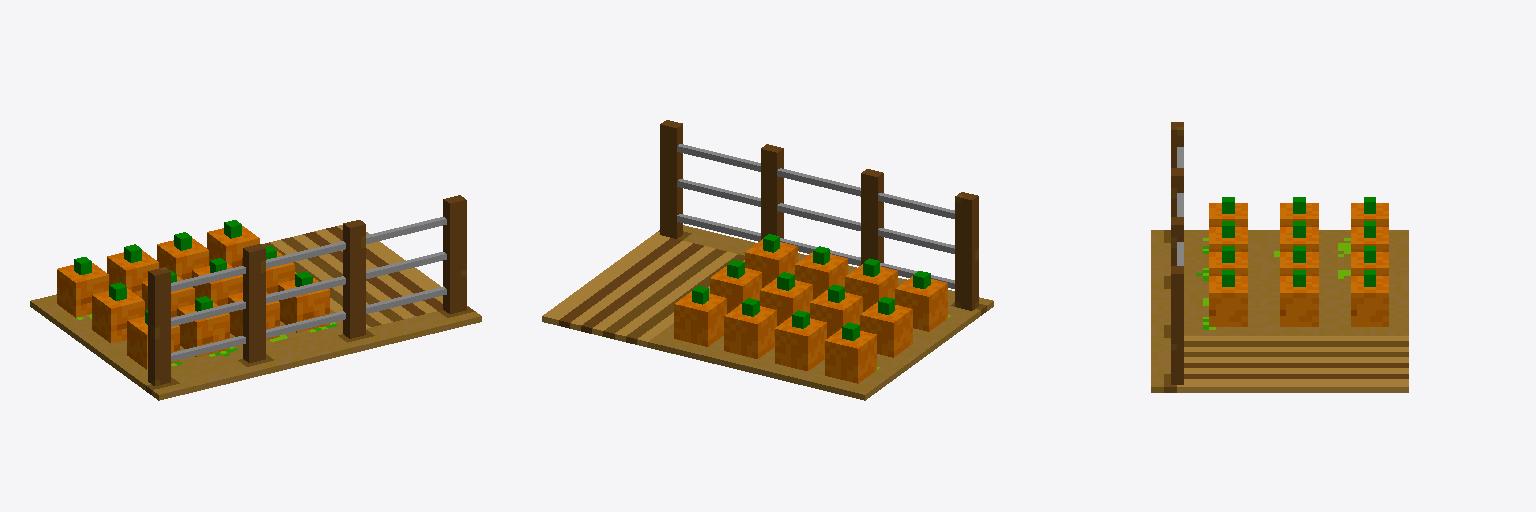
3 views of the same model, side by side, from view 1: azimuth 30°, elevation 25°; view 2: azimuth 150°, elevation 25°; view 3: azimuth 270°, elevation 25° (orthographic).
Visible parts, largest first — view 1: object 1; view 2: object 1; view 3: object 1.
Part boxes in pixels (bbox=[...]): object 1: bbox=[30, 195, 481, 400]; object 1: bbox=[542, 120, 993, 400]; object 1: bbox=[1151, 122, 1408, 392].
Bounding box in the file's own units: 5.8 × 2 × 4.
Materials: 1 (1 with a texture image).